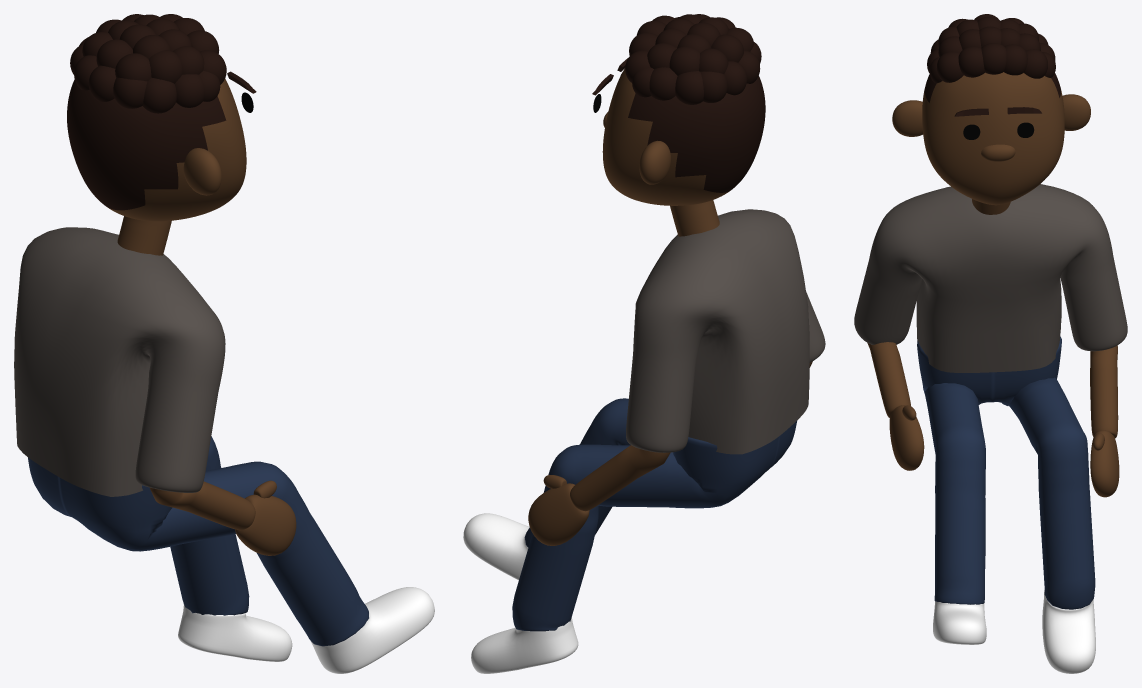
Rendered from adamSitting.fbx.
The picture shows the model from 3 angles, left to right: view 1: azimuth 30°, elevation 25°; view 2: azimuth 150°, elevation 25°; view 3: azimuth 270°, elevation 25°; orthographic projection. The views are drawn at different scales.
Visible parts, largest first — view 1: black-teen-shirt, black-teen-pants, black-teen-head, Cube.034, black-teen-shoes, black-teen-hands, black-teen-arms, black-teen-neck, black-teen-ears; view 2: black-teen-shirt, black-teen-pants, black-teen-head, Cube.034, black-teen-shoes, black-teen-arms, black-teen-hands, black-teen-neck, black-teen-ears; view 3: black-teen-shirt, black-teen-pants, black-teen-head, Cube.034, black-teen-shoes, black-teen-arms, black-teen-hands, black-teen-ears, black-teen-nose.
Boxes of the visible parts, x1,y1,x2,y2 form: black-teen-shirt: (14,227,225,496); black-teen-pants: (28,436,368,646); black-teen-head: (67,78,246,221); Cube.034: (70,14,226,113); black-teen-shoes: (178,587,434,673); black-teen-hands: (235,480,296,555); black-teen-arms: (149,481,255,530); black-teen-neck: (117,216,171,255); black-teen-ears: (183,148,221,195); black-teen-shirt: (626,209,825,454); black-teen-pants: (512,398,796,631); black-teen-head: (602,68,765,205); Cube.034: (625,14,761,104); black-teen-shoes: (463,513,578,673); black-teen-arms: (570,361,812,511); black-teen-hands: (528,475,589,545); black-teen-neck: (670,200,719,236); black-teen-ears: (639,140,670,184); black-teen-shirt: (854,184,1127,372); black-teen-pants: (917,336,1095,609); black-teen-head: (922,72,1064,205); Cube.034: (927,14,1055,83); black-teen-shoes: (933,590,1095,673); black-teen-arms: (867,342,1118,438); black-teen-hands: (889,405,1119,497); black-teen-ears: (892,94,1090,136); black-teen-nose: (981,144,1015,161).
Bounding box in the file's own units: 277 × 508 × 217.
